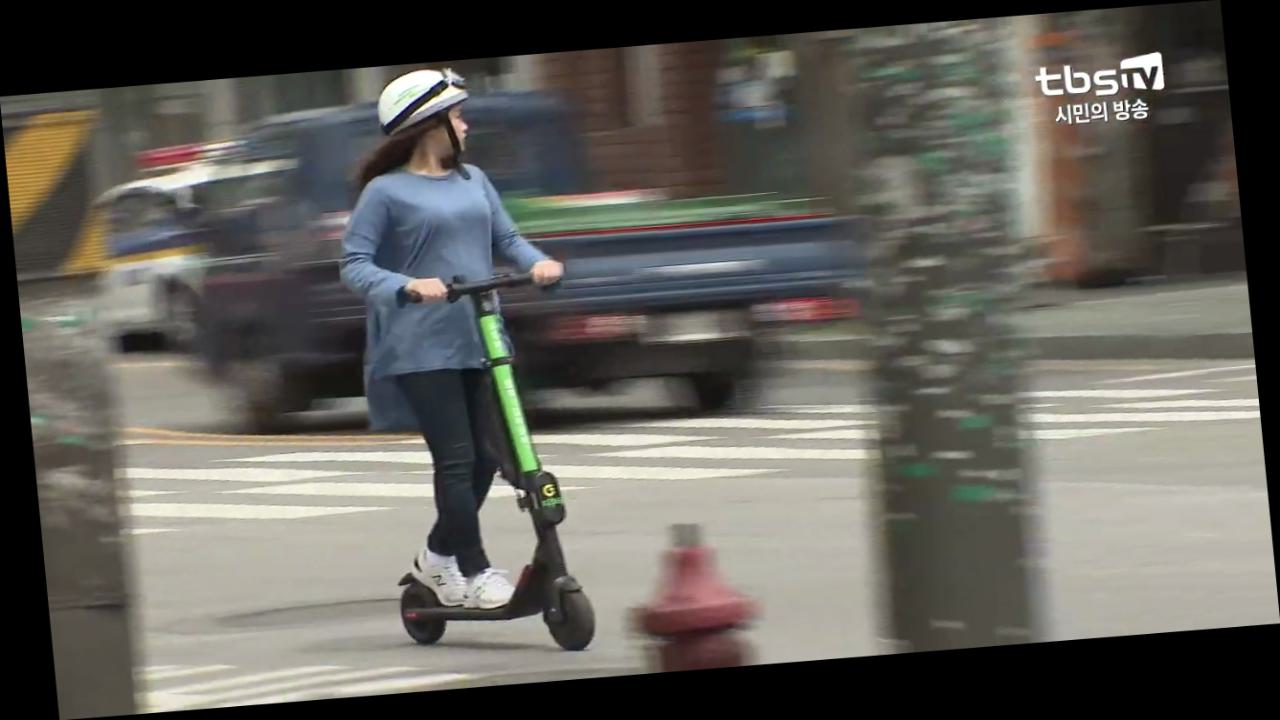helmet: (312, 57, 613, 671)
